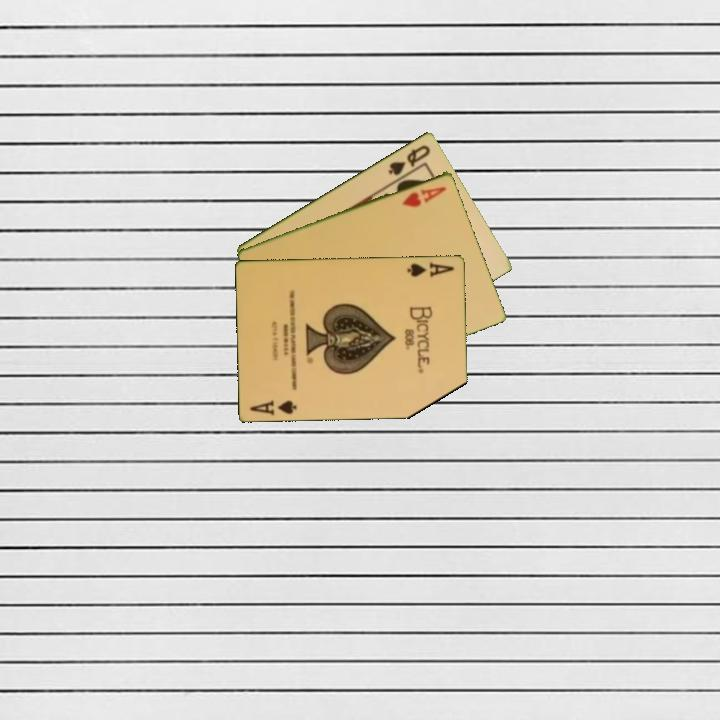Ah: (399, 183, 449, 210)
As: (247, 396, 299, 418), (404, 259, 457, 280)
Qs: (384, 141, 433, 178)
